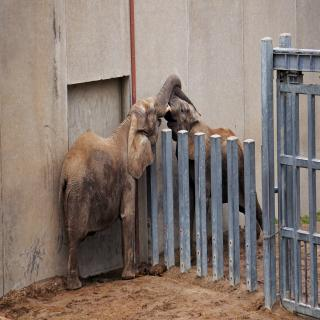Elephant: (57, 87, 166, 284)
